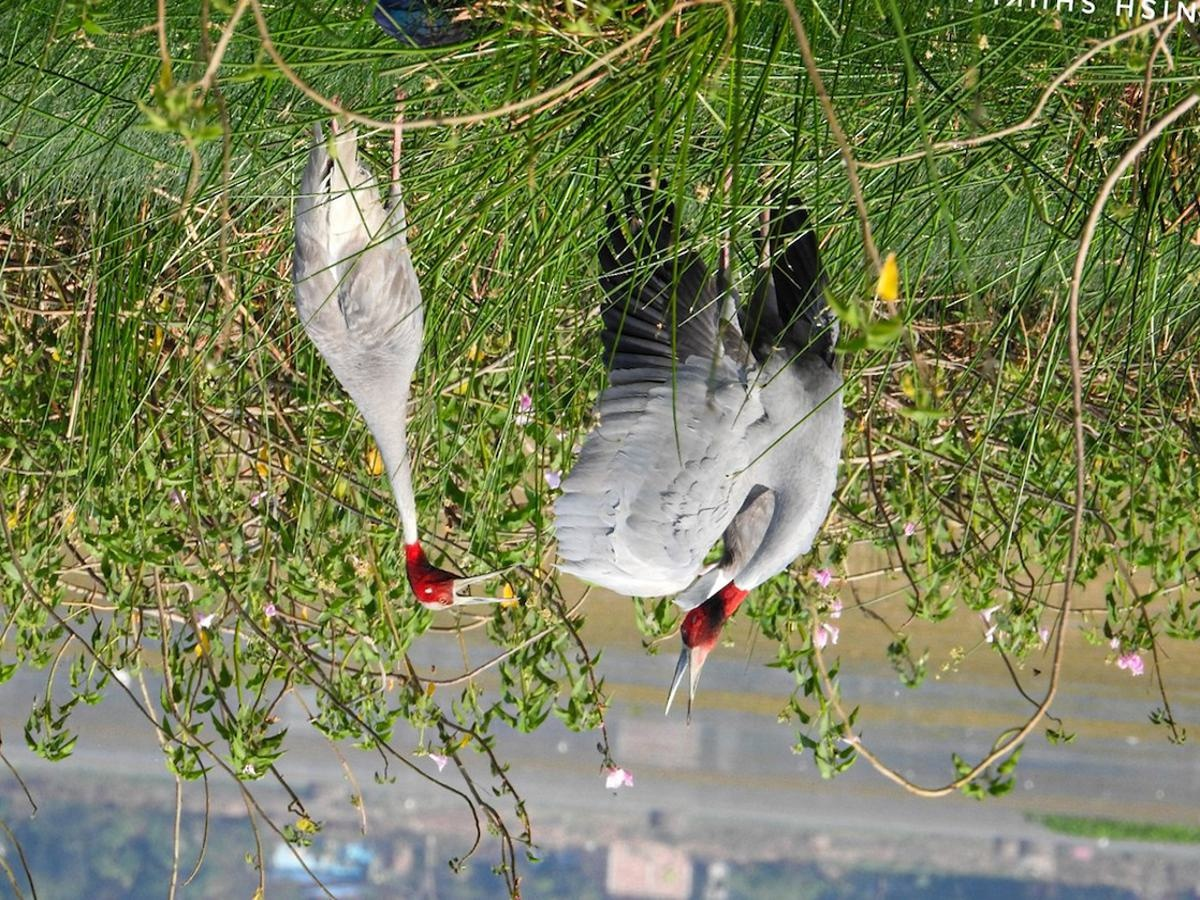crane: (544, 135, 860, 725), (263, 92, 531, 620)
